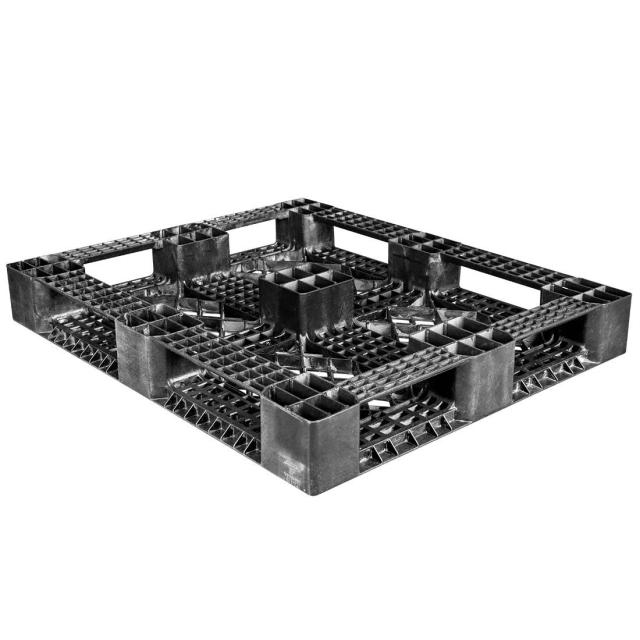non-igps: (0, 190, 635, 503)
